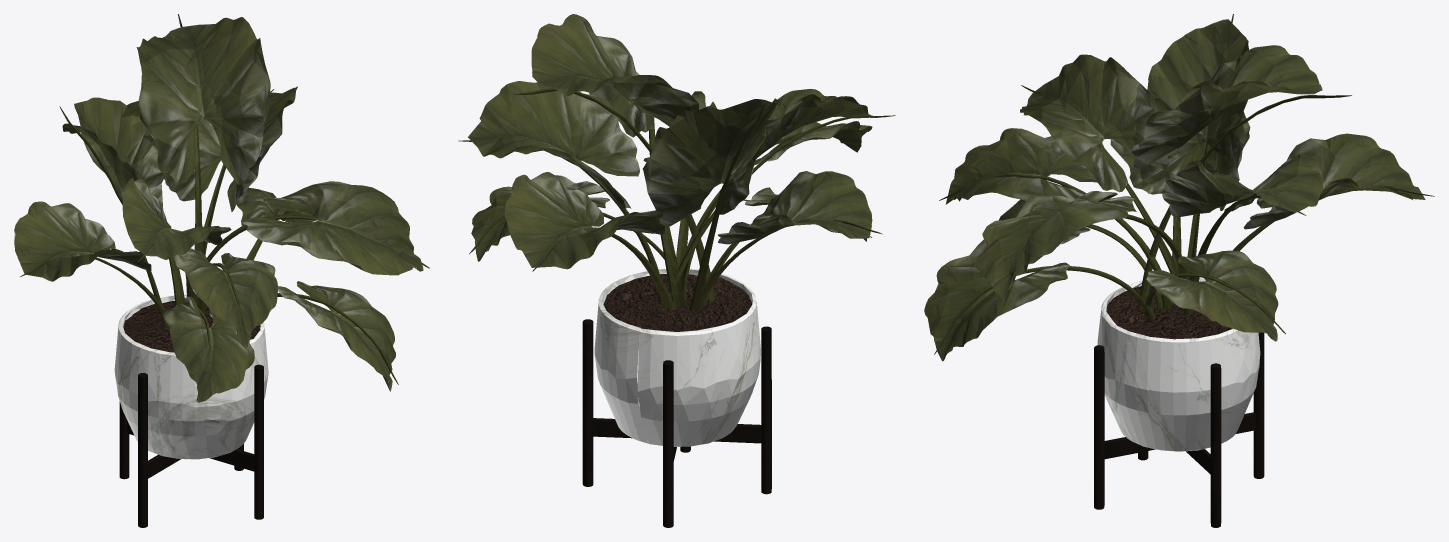
File: plant_3.glb
The picture shows the model from 3 angles, left to right: view 1: azimuth 30°, elevation 25°; view 2: azimuth 150°, elevation 25°; view 3: azimuth 270°, elevation 25°; orthographic projection. The views are drawn at different scales.
Parts seen in each view (by area): view 1: mesh_10_ROOT__Component_2081417__Group#3__Group146__Group147, mesh_17_ROOT__Component_2081417__Component_2072759__xiadele_, mesh_6_ROOT__Component_2081417__Group#3__Group144__Group145_, mesh_9_ROOT__Component_2081417__Group#3__Group128__Group129_, mesh_4_ROOT__Component_2081417__Group#3__Group122__Group123_, mesh_3_ROOT__Component_2081417__Group#3__Group108__Group109_, mesh_0_ROOT__Component_2081417__Group#3__Group106__Group107_, mesh_2_ROOT__Component_2081417__Group#3__Group112__Group113_, mesh_8_ROOT__Component_2081417__Group#3__Group126__Group127_, mesh_7_ROOT__Component_2081417__Group#3__Group134__Group135_, mesh_18_ROOT__Component_2081417__xiadele_SOIL010__xiadele_SO, mesh_11_ROOT__Component_2081417__Component_2072759__xiadele_ (+9 smaller); view 2: mesh_17_ROOT__Component_2081417__Component_2072759__xiadele_, mesh_0_ROOT__Component_2081417__Group#3__Group106__Group107_, mesh_7_ROOT__Component_2081417__Group#3__Group134__Group135_, mesh_10_ROOT__Component_2081417__Group#3__Group146__Group147, mesh_1_ROOT__Component_2081417__Group#3__Group116__Group117_, mesh_9_ROOT__Component_2081417__Group#3__Group128__Group129_, mesh_18_ROOT__Component_2081417__xiadele_SOIL010__xiadele_SO, mesh_8_ROOT__Component_2081417__Group#3__Group126__Group127_, mesh_5_ROOT__Component_2081417__Group#3__Group136__Group137_, mesh_15_ROOT__Component_2081417__Component_2072759__xiadele_, mesh_11_ROOT__Component_2081417__Component_2072759__xiadele_, mesh_13_ROOT__Component_2081417__Component_2072759__xiadele_ (+11 smaller); view 3: mesh_17_ROOT__Component_2081417__Component_2072759__xiadele_, mesh_8_ROOT__Component_2081417__Group#3__Group126__Group127_, mesh_0_ROOT__Component_2081417__Group#3__Group106__Group107_, mesh_10_ROOT__Component_2081417__Group#3__Group146__Group147, mesh_6_ROOT__Component_2081417__Group#3__Group144__Group145_, mesh_5_ROOT__Component_2081417__Group#3__Group136__Group137_, mesh_4_ROOT__Component_2081417__Group#3__Group122__Group123_, mesh_2_ROOT__Component_2081417__Group#3__Group112__Group113_, mesh_7_ROOT__Component_2081417__Group#3__Group134__Group135_, mesh_1_ROOT__Component_2081417__Group#3__Group116__Group117_, mesh_18_ROOT__Component_2081417__xiadele_SOIL010__xiadele_SO, mesh_15_ROOT__Component_2081417__Component_2072759__xiadele_ (+11 smaller).
Boxes of the visible parts, <box> form: mesh_10_ROOT__Component_2081417__Group#3__Group146__Group147: <box>136,17,270,184</box>; mesh_17_ROOT__Component_2081417__Component_2072759__xiadele_: <box>114,294,268,459</box>; mesh_6_ROOT__Component_2081417__Group#3__Group144__Group145_: <box>242,181,423,275</box>; mesh_9_ROOT__Component_2081417__Group#3__Group128__Group129_: <box>14,201,151,281</box>; mesh_4_ROOT__Component_2081417__Group#3__Group122__Group123_: <box>173,248,277,348</box>; mesh_3_ROOT__Component_2081417__Group#3__Group108__Group109_: <box>163,296,254,402</box>; mesh_0_ROOT__Component_2081417__Group#3__Group106__Group107_: <box>74,97,165,215</box>; mesh_2_ROOT__Component_2081417__Group#3__Group112__Group113_: <box>278,281,395,391</box>; mesh_8_ROOT__Component_2081417__Group#3__Group126__Group127_: <box>122,178,231,259</box>; mesh_7_ROOT__Component_2081417__Group#3__Group134__Group135_: <box>166,86,297,211</box>; mesh_18_ROOT__Component_2081417__xiadele_SOIL010__xiadele_SO: <box>123,298,260,352</box>; mesh_11_ROOT__Component_2081417__Component_2072759__xiadele_: <box>138,373,147,527</box>; mesh_17_ROOT__Component_2081417__Component_2072759__xiadele_: <box>594,268,760,446</box>; mesh_0_ROOT__Component_2081417__Group#3__Group106__Group107_: <box>642,98,779,226</box>; mesh_7_ROOT__Component_2081417__Group#3__Group134__Group135_: <box>468,81,639,209</box>; mesh_10_ROOT__Component_2081417__Group#3__Group146__Group147: <box>531,14,698,126</box>; mesh_1_ROOT__Component_2081417__Group#3__Group116__Group117_: <box>504,172,664,269</box>; mesh_9_ROOT__Component_2081417__Group#3__Group128__Group129_: <box>718,171,872,244</box>; mesh_18_ROOT__Component_2081417__xiadele_SOIL010__xiadele_SO: <box>603,274,751,331</box>; mesh_8_ROOT__Component_2081417__Group#3__Group126__Group127_: <box>756,89,875,157</box>; mesh_5_ROOT__Component_2081417__Group#3__Group136__Group137_: <box>471,175,609,261</box>; mesh_15_ROOT__Component_2081417__Component_2072759__xiadele_: <box>582,319,593,486</box>; mesh_11_ROOT__Component_2081417__Component_2072759__xiadele_: <box>761,326,771,494</box>; mesh_13_ROOT__Component_2081417__Component_2072759__xiadele_: <box>663,360,673,527</box>; mesh_17_ROOT__Component_2081417__Component_2072759__xiadele_: <box>1097,278,1260,451</box>; mesh_8_ROOT__Component_2081417__Group#3__Group126__Group127_: <box>1020,54,1169,192</box>; mesh_0_ROOT__Component_2081417__Group#3__Group106__Group107_: <box>1133,19,1248,210</box>; mesh_10_ROOT__Component_2081417__Group#3__Group146__Group147: <box>1131,45,1322,169</box>; mesh_6_ROOT__Component_2081417__Group#3__Group144__Group145_: <box>974,191,1136,302</box>; mesh_5_ROOT__Component_2081417__Group#3__Group136__Group137_: <box>1146,250,1278,341</box>; mesh_4_ROOT__Component_2081417__Group#3__Group122__Group123_: <box>945,128,1097,204</box>; mesh_2_ROOT__Component_2081417__Group#3__Group112__Group113_: <box>924,239,1069,361</box>; mesh_7_ROOT__Component_2081417__Group#3__Group134__Group135_: <box>1162,154,1323,217</box>; mesh_1_ROOT__Component_2081417__Group#3__Group116__Group117_: <box>1243,133,1425,229</box>; mesh_18_ROOT__Component_2081417__xiadele_SOIL010__xiadele_SO: <box>1106,284,1232,339</box>; mesh_15_ROOT__Component_2081417__Component_2072759__xiadele_: <box>1210,363,1221,527</box>.
Bounding box in the file's own units: 1023 × 1233 × 1245.
5 materials, 5 textured.
